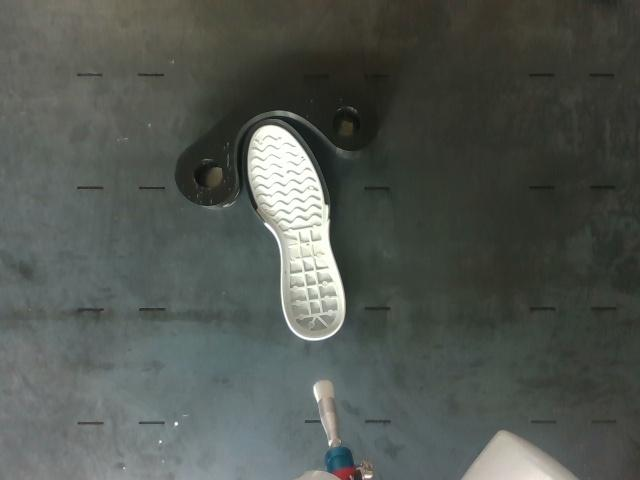shoes: (242, 119, 345, 339)
